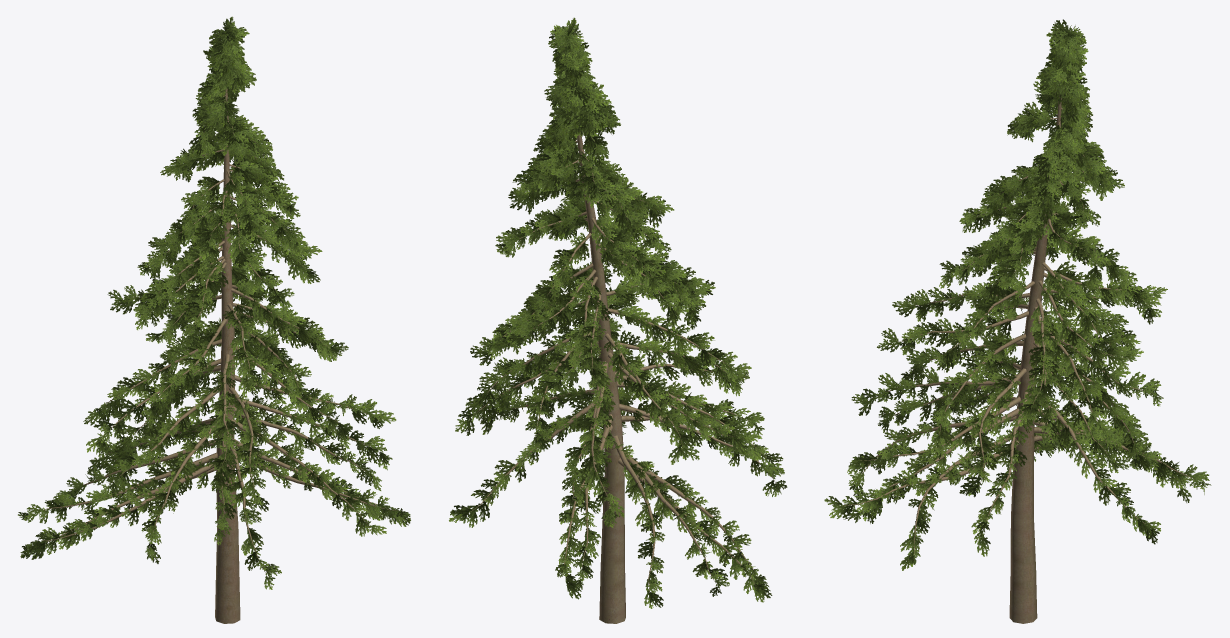
File: pine_medium_03.glb
The picture shows the model from 3 angles, left to right: view 1: azimuth 30°, elevation 25°; view 2: azimuth 150°, elevation 25°; view 3: azimuth 270°, elevation 25°; orthographic projection. The views are drawn at different scales.
Parts seen in each view (by area): view 1: Tree; view 2: Tree; view 3: Tree.
Part boxes in pixels (<box>): Tree: <box>18,16,410,623</box>; Tree: <box>449,17,787,623</box>; Tree: <box>824,19,1211,623</box>.
Size of the model in its own units: 30.68 by 51.27 by 29.85.
2 materials, 2 textured.
